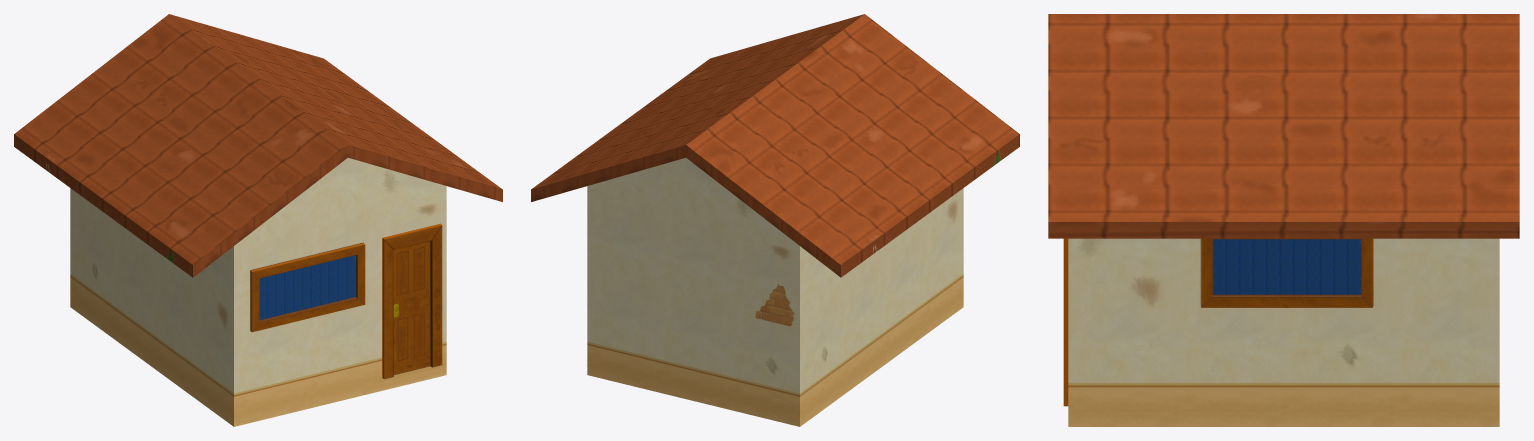
File: Houses_SuburbanHouse1.fbx
3 renders of one model, left to right at view 1: azimuth 30°, elevation 25°; view 2: azimuth 150°, elevation 25°; view 3: azimuth 270°, elevation 25°, orthographic. The views are drawn at different scales.
Parts seen in each view (by area): view 1: House1; view 2: House1; view 3: House1.
Part boxes in pixels (bbox=[...]): House1: bbox=[14, 14, 502, 426]; House1: bbox=[531, 14, 1019, 426]; House1: bbox=[1048, 14, 1519, 426].
Bounding box in the file's own units: 405 × 327 × 405.
Materials: 1 (1 with a texture image).
